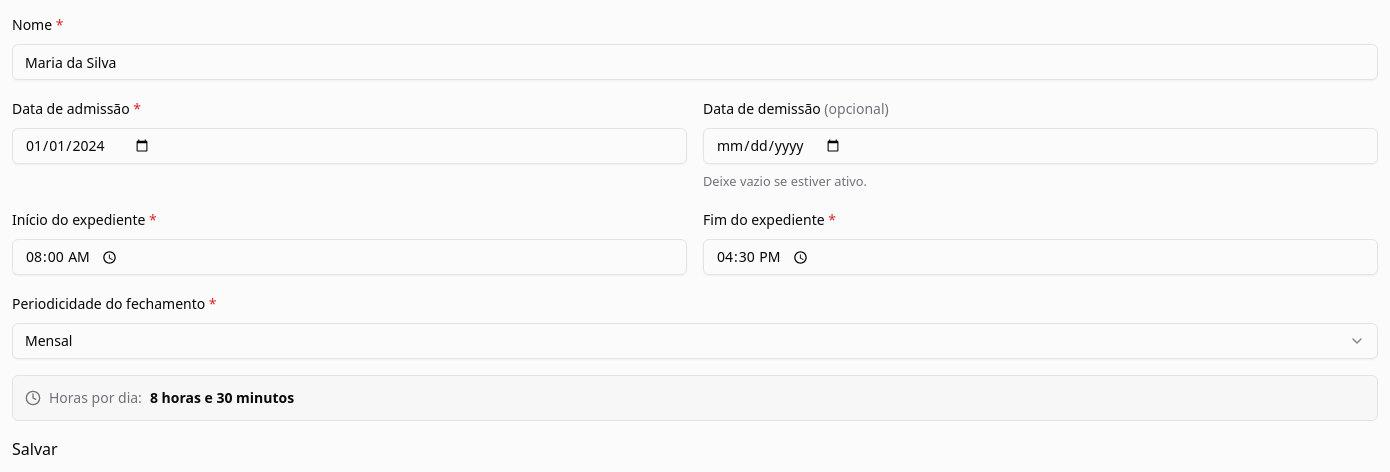
Test: EmployeeForm › updates worked days in real time when dismissal is filled
Step 1. Type "2024-01-31" into the date field labelled "Data de demissão (opcional)" → (1040, 146), box [703,128,1378,164]
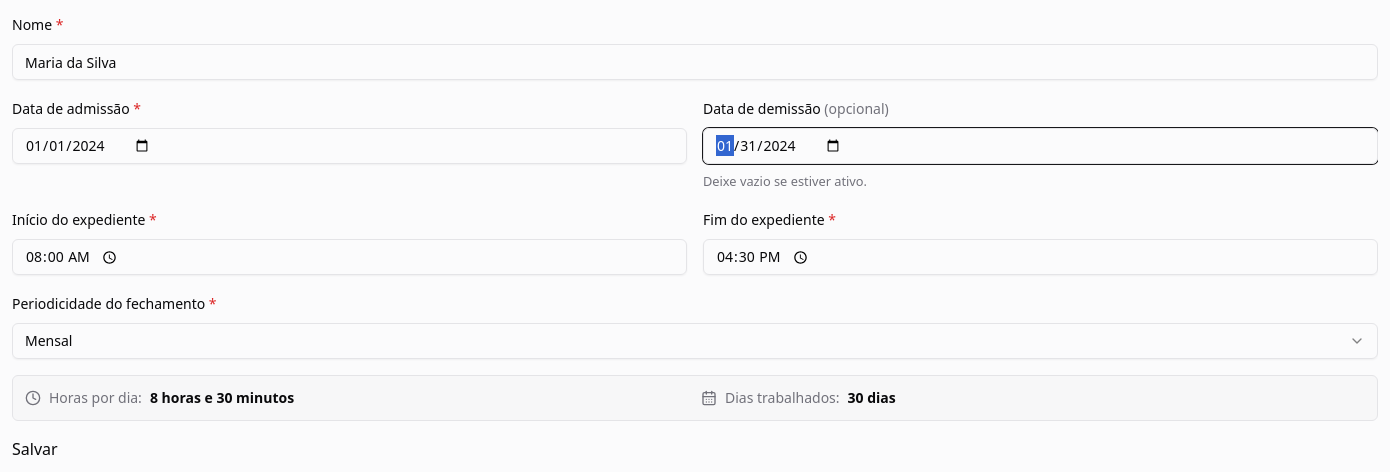
Now the text with test id "worked-days" reads "30 dias", box [848,388,896,407]
